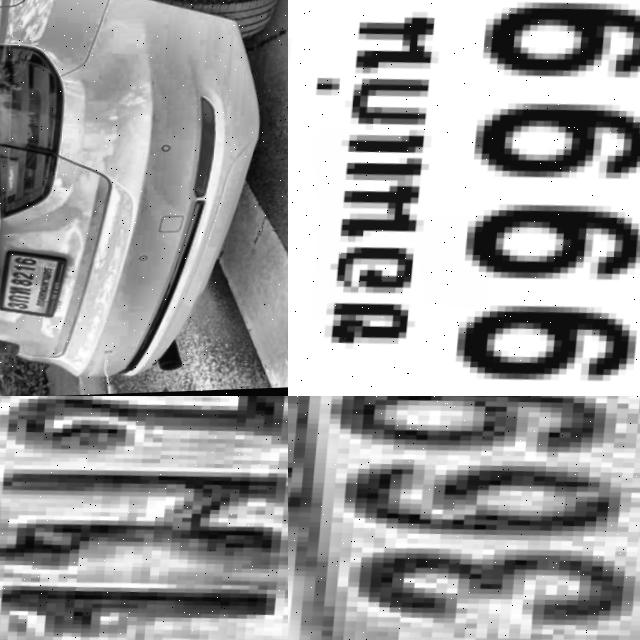license-plate: (288, 0, 640, 396), (288, 396, 640, 640), (0, 396, 288, 640), (0, 249, 70, 320)
